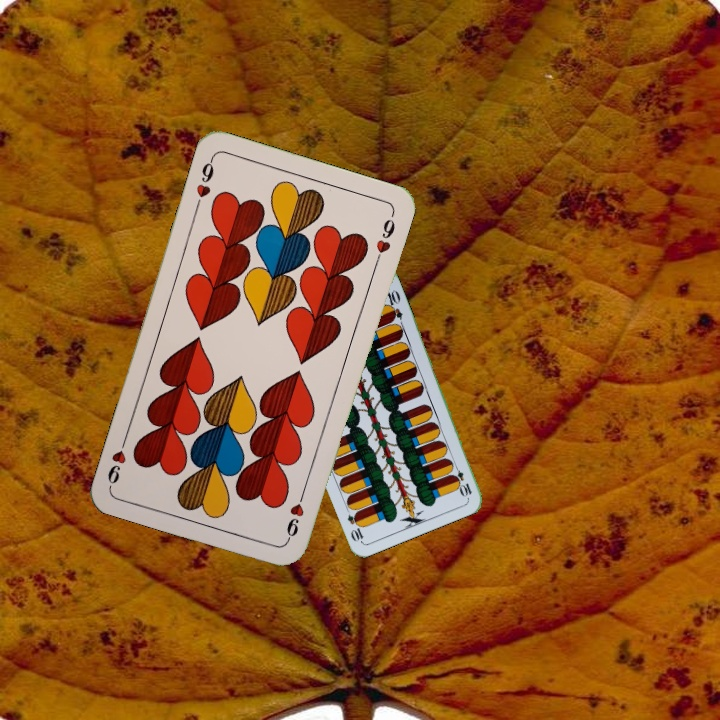E10: (449, 460, 474, 499)
H9: (191, 153, 217, 211), (282, 485, 308, 543)
